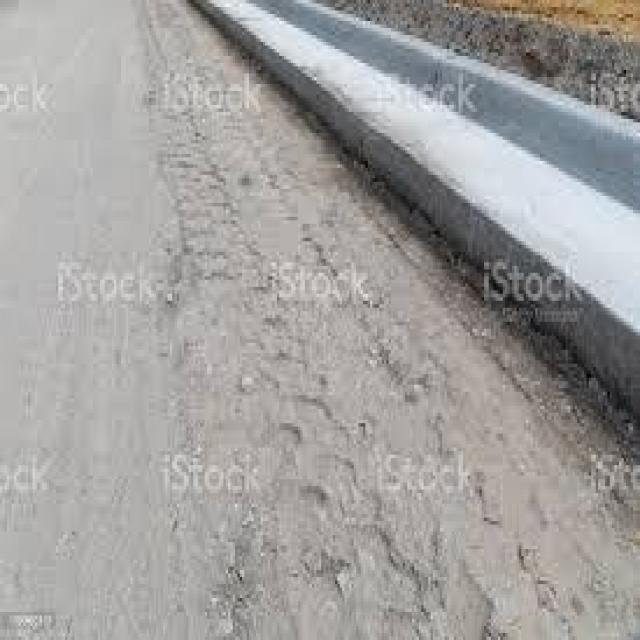curb: (451, 183, 640, 402), (300, 38, 473, 233)
